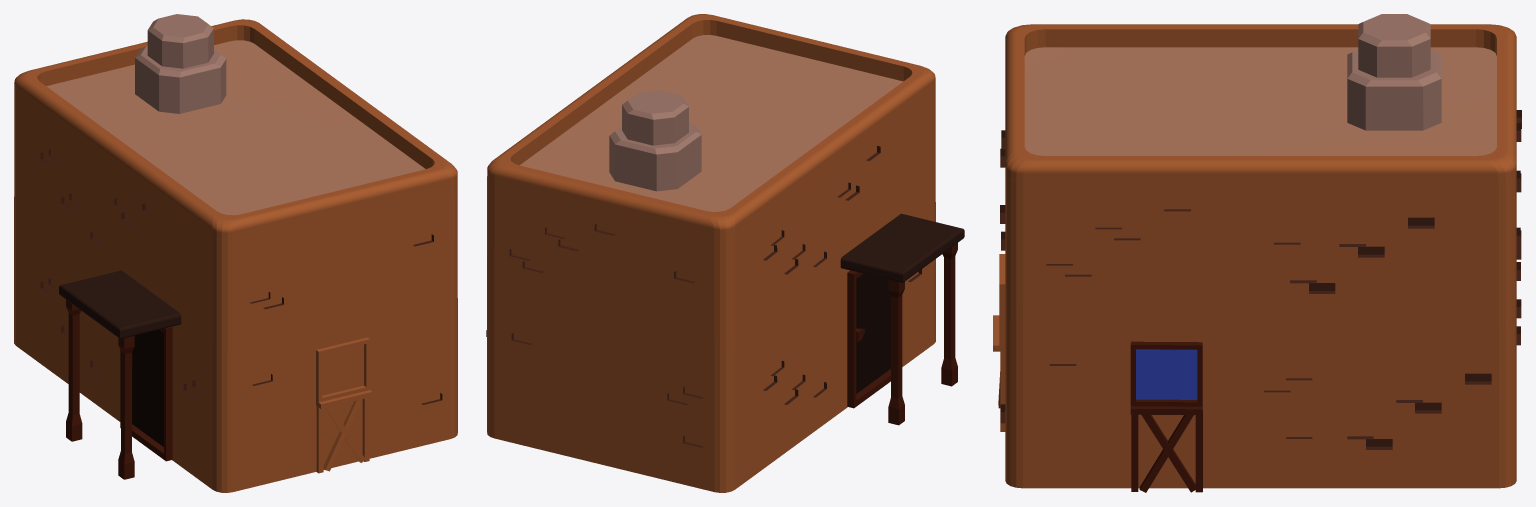
File: MediumHouse.fbx
The picture shows the model from 3 angles, left to right: view 1: azimuth 30°, elevation 25°; view 2: azimuth 150°, elevation 25°; view 3: azimuth 270°, elevation 25°; orthographic projection. The views are drawn at different scales.
Parts seen in each view (by area): view 1: House_Medium1; view 2: House_Medium1; view 3: House_Medium1.
Part boxes in pixels (bbox=[...]): House_Medium1: bbox=[14, 14, 457, 492]; House_Medium1: bbox=[486, 14, 964, 492]; House_Medium1: bbox=[993, 14, 1521, 492].
Bounding box in the file's own units: 514 × 500 × 615.
